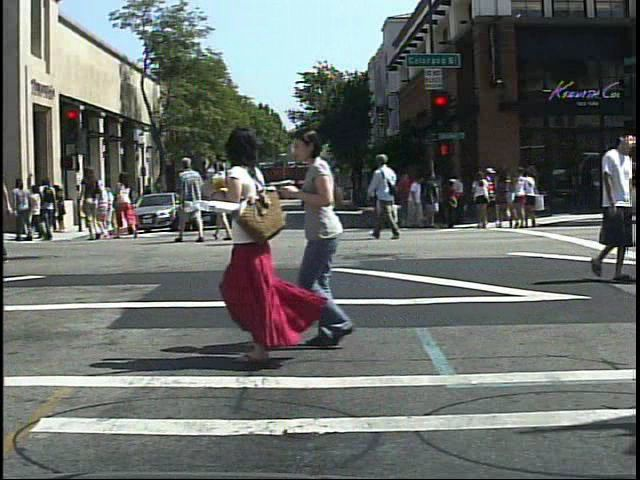person: (202, 126, 314, 366), (288, 122, 376, 353), (588, 123, 639, 285), (169, 153, 206, 245), (374, 148, 407, 243), (210, 155, 239, 245), (79, 165, 109, 245), (477, 164, 510, 232), (112, 168, 139, 243), (471, 168, 496, 234), (38, 176, 60, 243), (12, 177, 33, 243)
